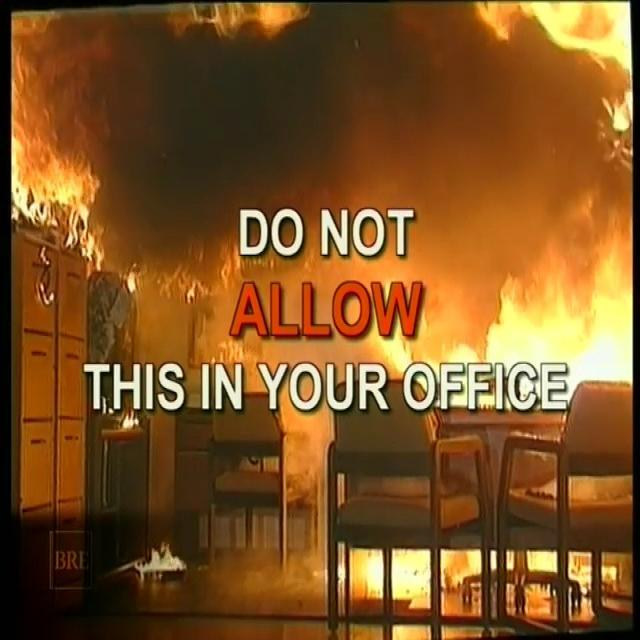Fire: (0, 1, 637, 395)
